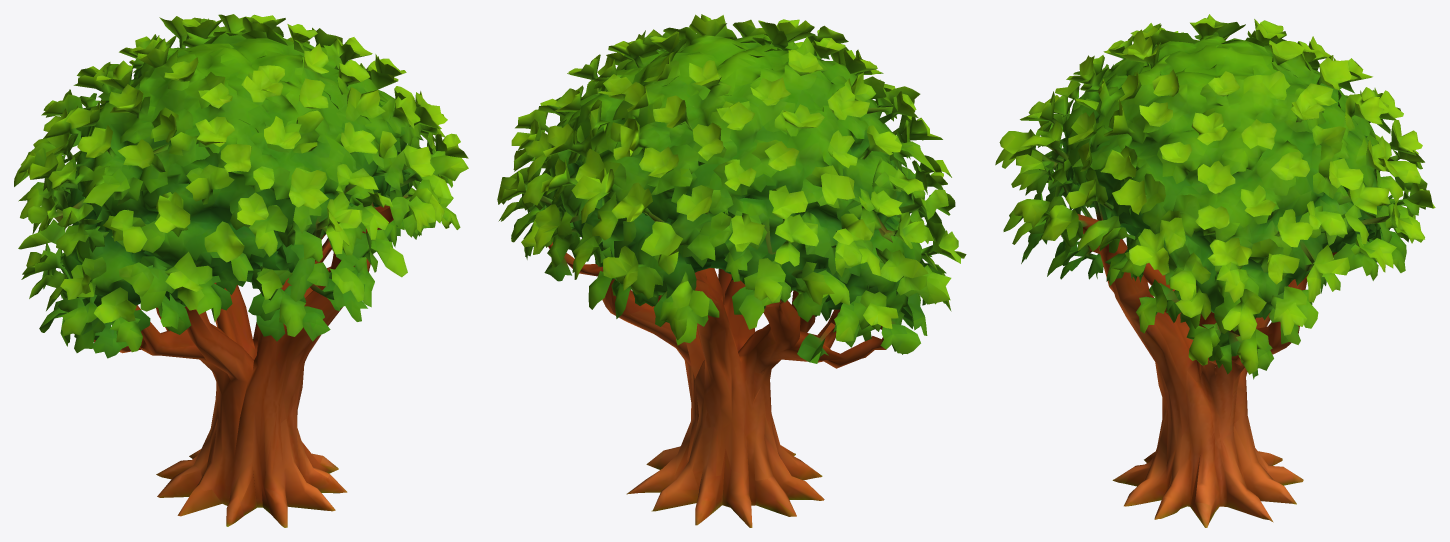
The model's file is tree_oak.glb.
The picture shows the model from 3 angles, left to right: view 1: azimuth 30°, elevation 25°; view 2: azimuth 150°, elevation 25°; view 3: azimuth 270°, elevation 25°; orthographic projection. The views are drawn at different scales.
Visible parts, largest first — view 1: tripo_node_4c2e7e18-eeda-4c35-a030-6ba4e3eda0c5; view 2: tripo_node_4c2e7e18-eeda-4c35-a030-6ba4e3eda0c5; view 3: tripo_node_4c2e7e18-eeda-4c35-a030-6ba4e3eda0c5.
Part boxes in pixels (x1,y1,x2,y2): tripo_node_4c2e7e18-eeda-4c35-a030-6ba4e3eda0c5: (14, 14, 468, 527); tripo_node_4c2e7e18-eeda-4c35-a030-6ba4e3eda0c5: (497, 14, 966, 527); tripo_node_4c2e7e18-eeda-4c35-a030-6ba4e3eda0c5: (995, 14, 1435, 527).
Bounding box in the file's own units: 4.89 × 4.98 × 4.5.
Materials: 1 (1 with a texture image).
